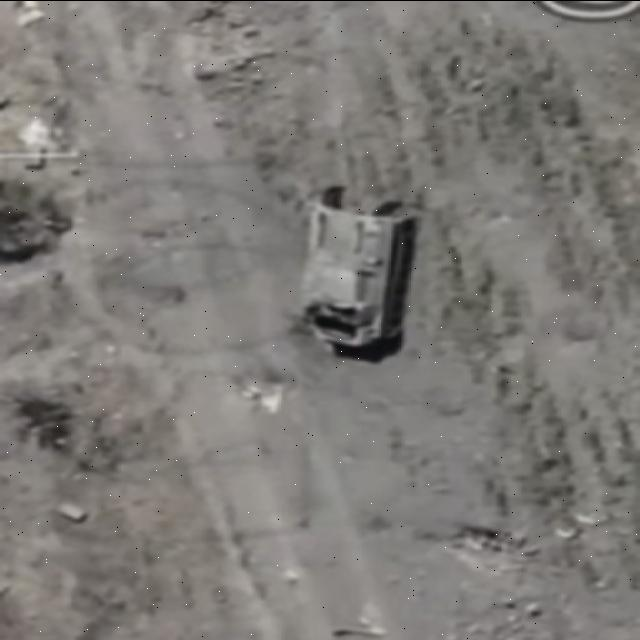APC-IFV: (280, 192, 422, 358)
